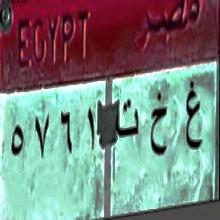1: (86, 104, 98, 160)
5: (9, 116, 25, 169)
6: (60, 106, 74, 166)
7: (33, 109, 50, 168)
ghayn: (182, 74, 203, 164)
khaa: (147, 84, 169, 169)
taa: (114, 96, 140, 154)
